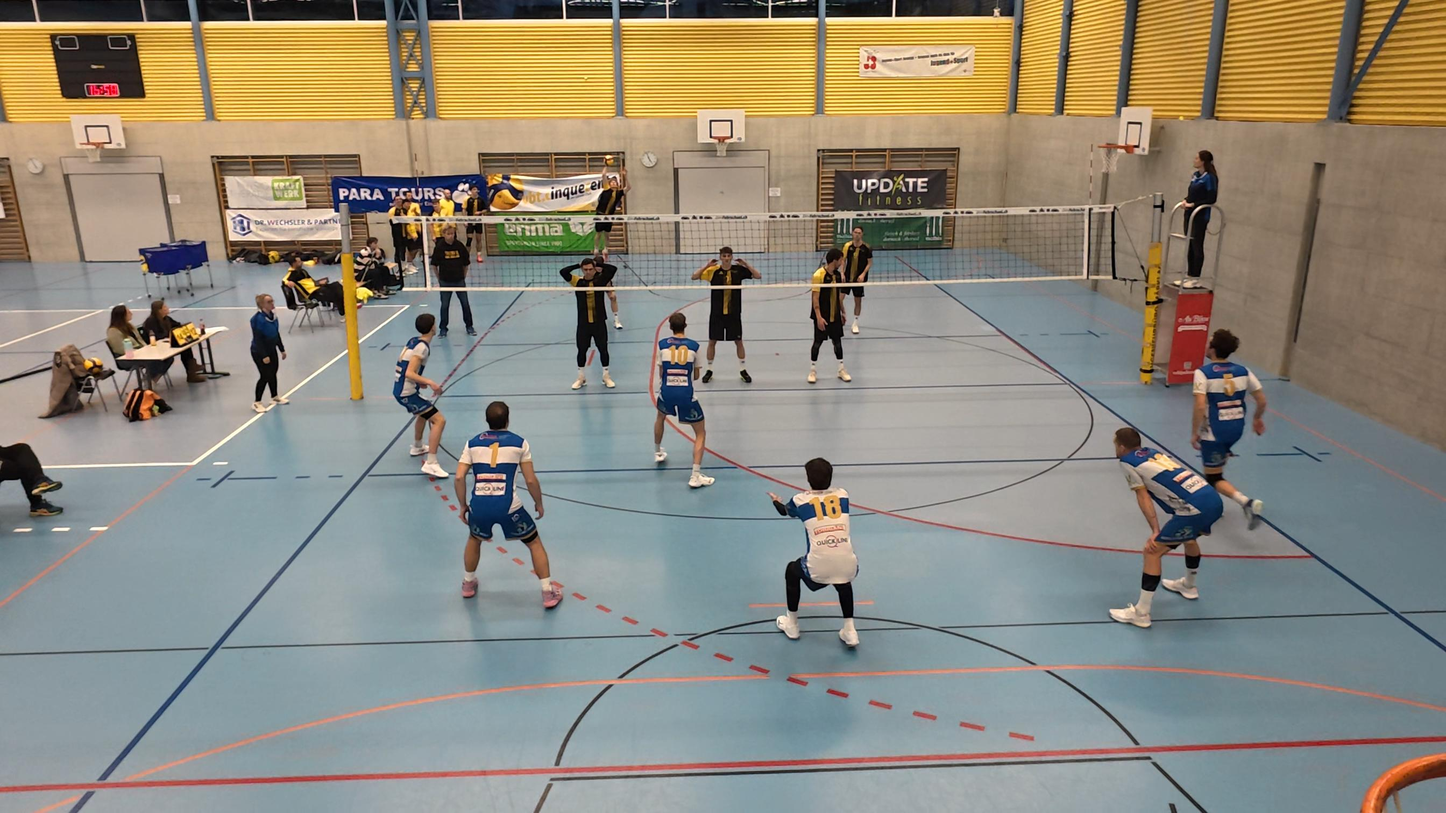Player: (452, 402, 561, 608), (1111, 429, 1219, 628), (771, 457, 863, 651), (1190, 330, 1267, 529), (650, 313, 718, 489), (392, 315, 453, 478), (698, 248, 758, 385), (564, 254, 620, 390), (804, 247, 856, 385), (584, 236, 626, 331), (839, 220, 873, 334)
Serve: (590, 153, 630, 262)
ball: (601, 152, 617, 167)
